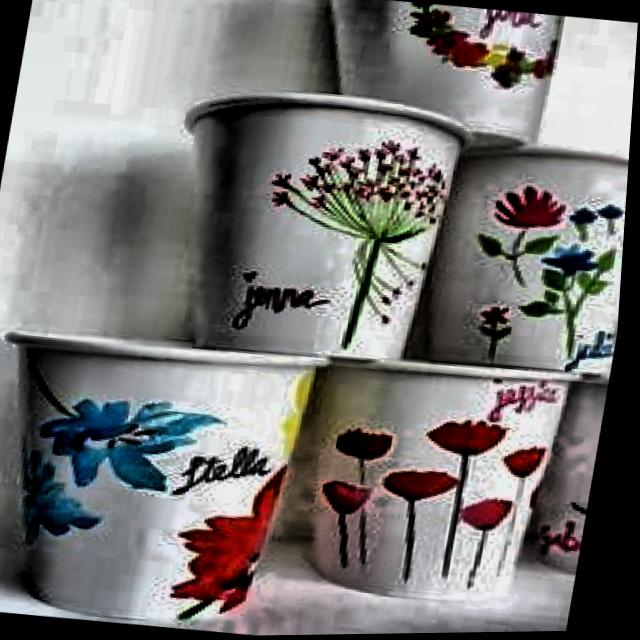Cup: (0, 319, 330, 635)
